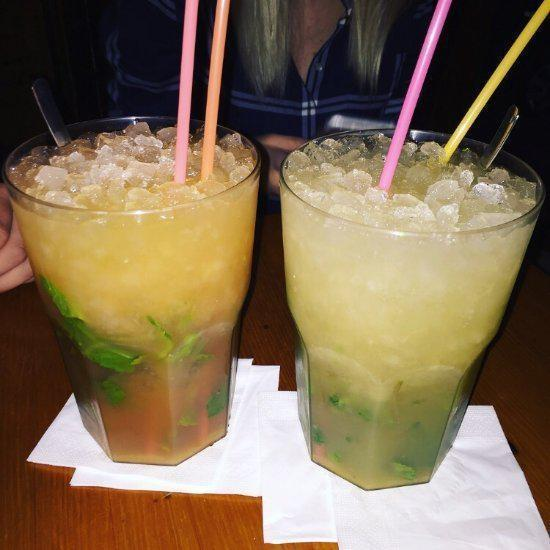glass-normal: (276, 128, 545, 489), (2, 114, 263, 468)
